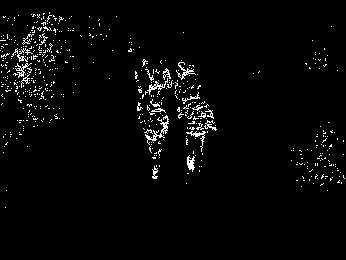person: (134, 82, 171, 183), (176, 88, 217, 175)
